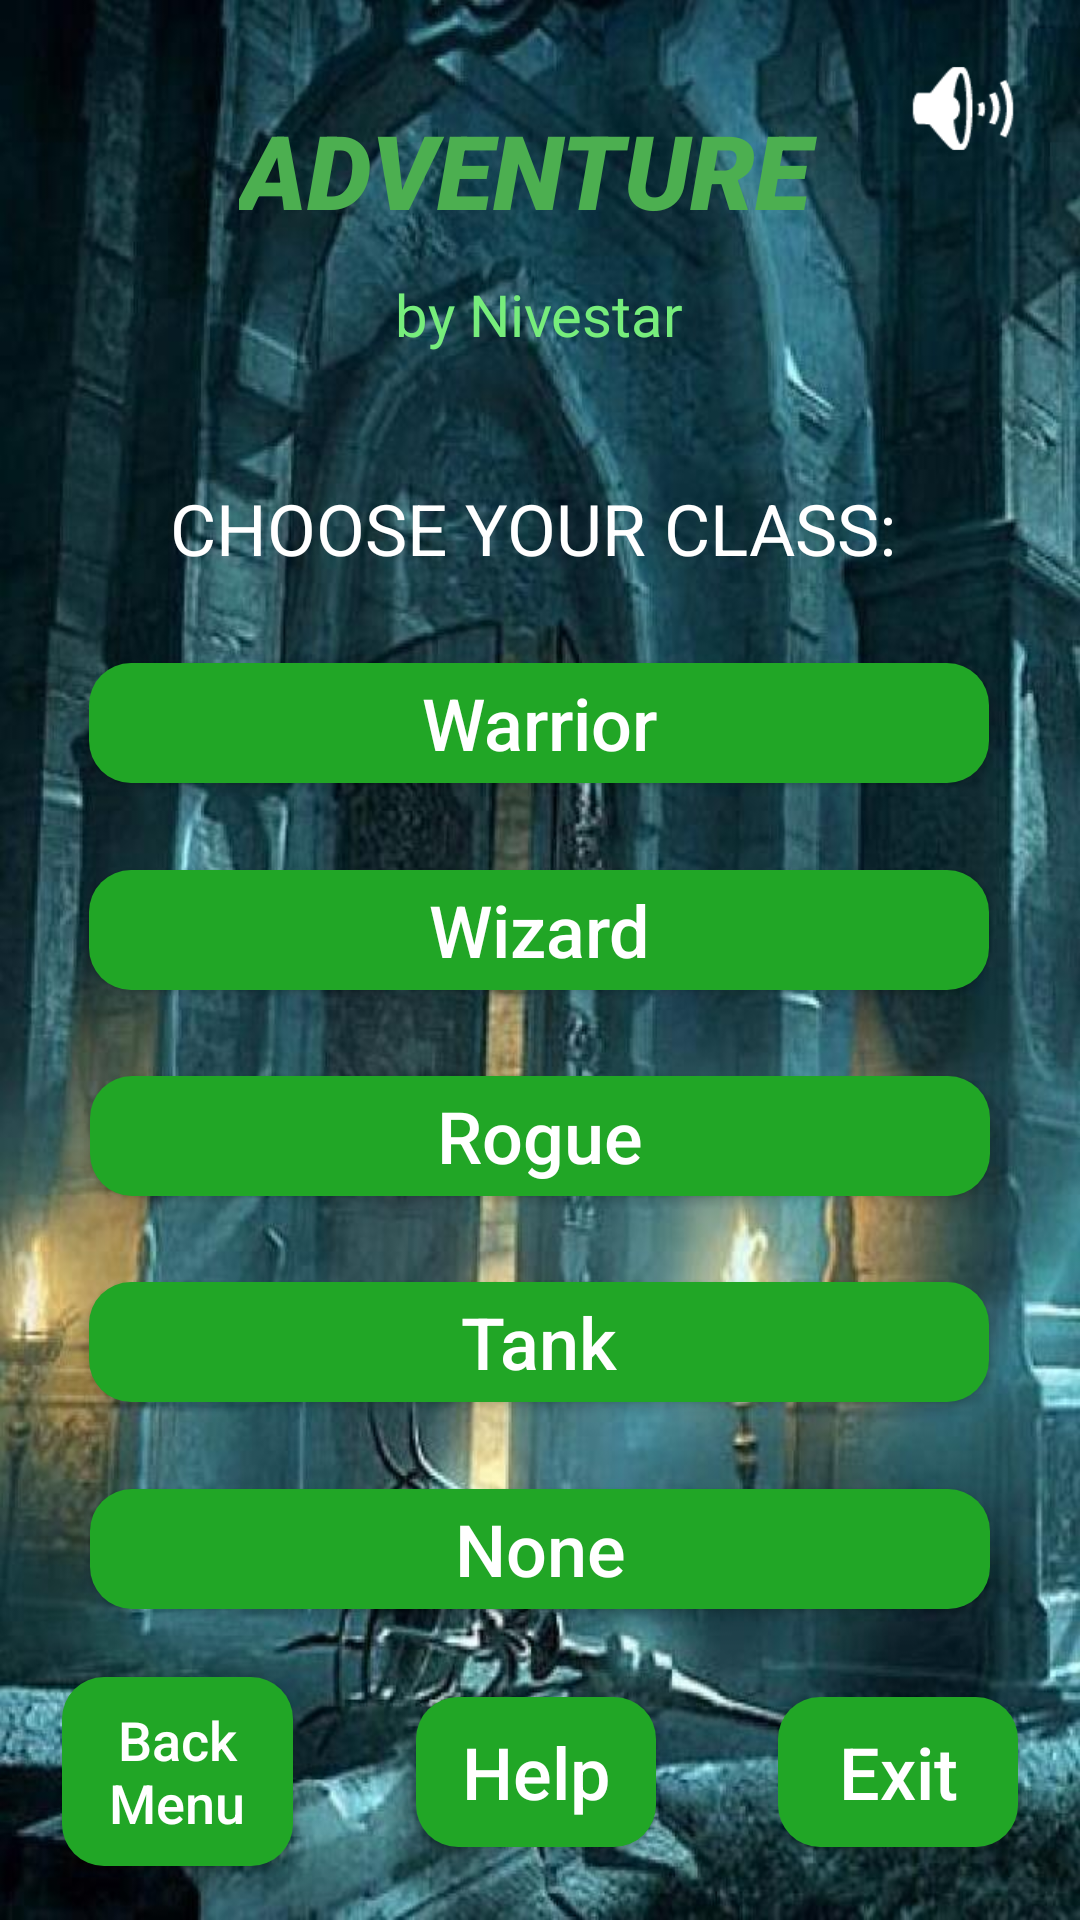

Where icons sit on this 1080px x 1920px app screen, as (x1, y1, x2, y2):
lock silent mode off: (912, 67, 1001, 150)
